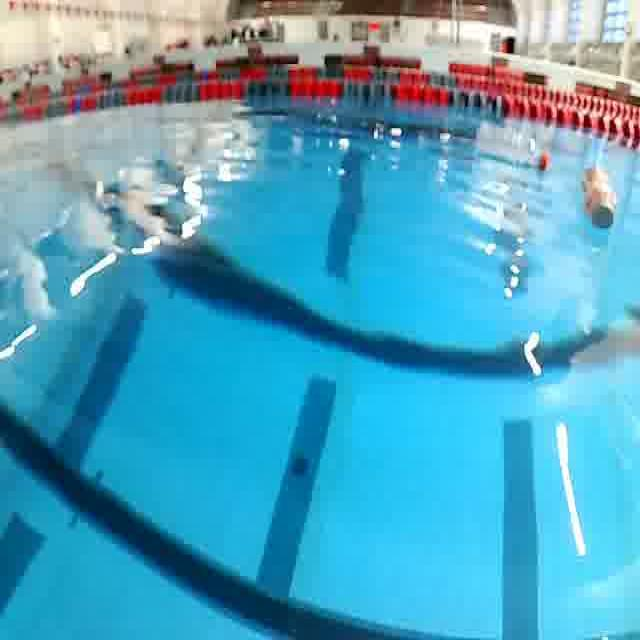Bottle: (470, 115, 559, 184), (574, 162, 620, 237)
